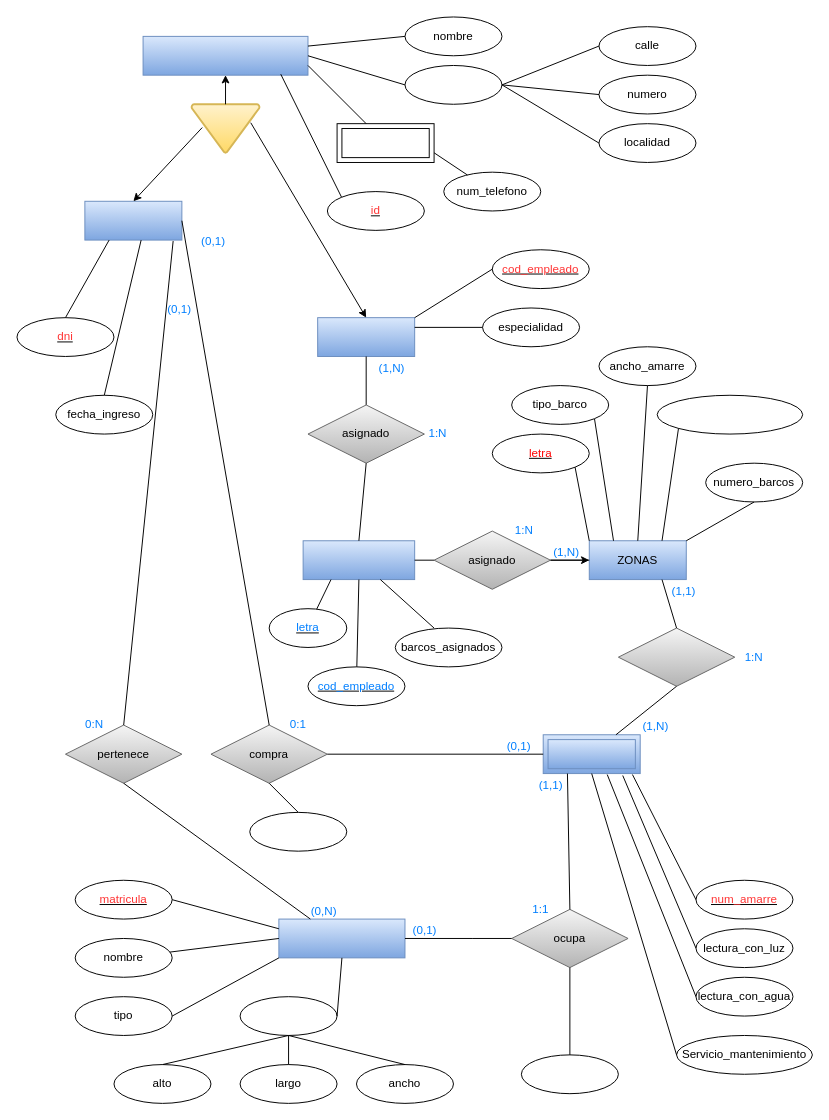
Some shapes in this 829 by 1120 pixel diagram are drawn without their labels. Here are the shapes that lost their labels. From the top down, the centre of each, then its label:
At (225,55): "PERSONA".
At (453,84): "direccion".
At (385,142): "telefono".
At (133,220): "SOCIOS".
At (366,336): "EMPLEADOS".
At (729,414): "profundidad_amarre".
At (358,560): "asignacion_trabajo".
At (676,656): "tiene".
At (591,754): "AMARRES".
At (298,831): "fecha_compra".
At (341,938): "EMBARCACIONES".
At (288,1015): "dimensiones".
At (569,1074): "fecha_asignacion".
